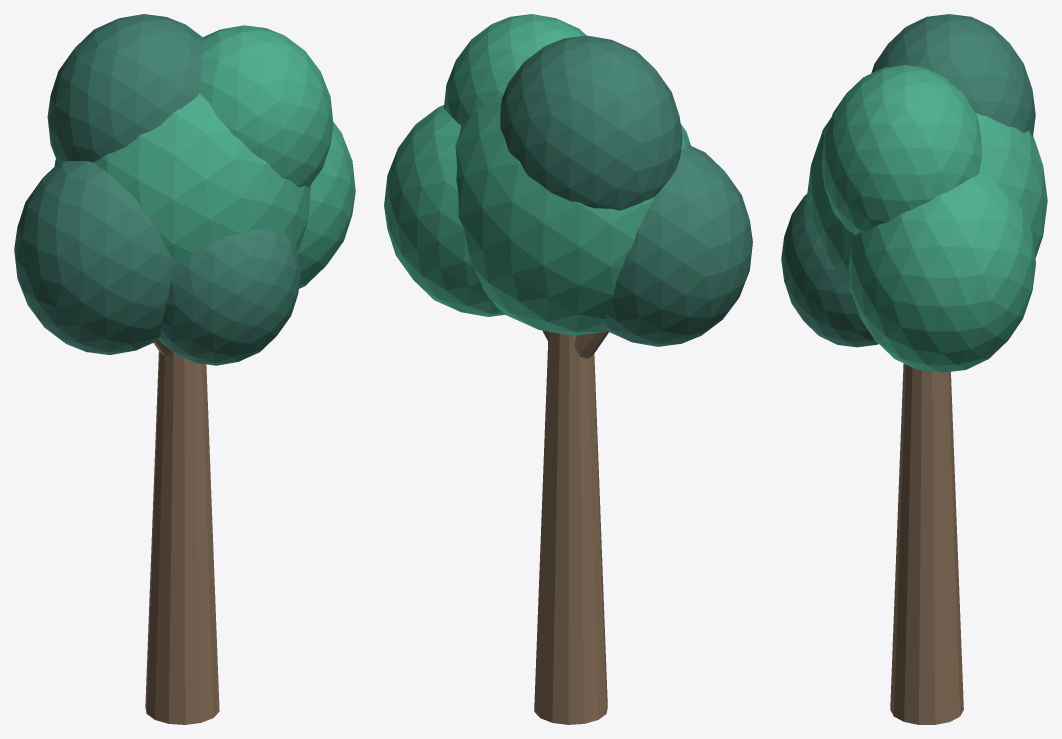
File: city_tree.glb
The picture shows the model from 3 angles, left to right: view 1: azimuth 30°, elevation 25°; view 2: azimuth 150°, elevation 25°; view 3: azimuth 270°, elevation 25°; orthographic projection.
Parts seen in each view (by area): view 1: leaf_cluster_1, tree_trunk, leaf_cluster_0, leaf_cluster_3, leaf_cluster_4, leaf_cluster_5, leaf_cluster_2; view 2: leaf_cluster_0, leaf_cluster_3, tree_trunk, leaf_cluster_1, leaf_cluster_2, leaf_cluster_4, branch_left; view 3: leaf_cluster_2, tree_trunk, leaf_cluster_4, leaf_cluster_3, leaf_cluster_0, leaf_cluster_5.
Boxes of the visible parts, left/top/right/bottom form: leaf_cluster_1: left=14, top=160, right=175, bottom=354; tree_trunk: left=145, top=351, right=219, bottom=724; leaf_cluster_0: left=54, top=93, right=310, bottom=265; leaf_cluster_3: left=47, top=14, right=203, bottom=162; leaf_cluster_4: left=200, top=25, right=333, bottom=187; leaf_cluster_5: left=159, top=229, right=300, bottom=365; leaf_cluster_2: left=298, top=122, right=355, bottom=288; leaf_cluster_0: left=455, top=93, right=690, bottom=335; leaf_cluster_3: left=500, top=35, right=682, bottom=210; tree_trunk: left=534, top=332, right=607, bottom=724; leaf_cluster_1: left=605, top=145, right=752, bottom=346; leaf_cluster_2: left=384, top=105, right=504, bottom=316; leaf_cluster_4: left=444, top=14, right=586, bottom=125; branch_left: left=574, top=331, right=608, bottom=358; leaf_cluster_2: left=848, top=174, right=1035, bottom=372; tree_trunk: left=890, top=363, right=963, bottom=724; leaf_cluster_4: left=821, top=65, right=981, bottom=234; leaf_cluster_3: left=871, top=14, right=1035, bottom=135; leaf_cluster_0: left=806, top=113, right=1047, bottom=293; leaf_cluster_5: left=781, top=194, right=878, bottom=347.
Size of the model in its own units: 2.05 by 4.04 by 1.45.
